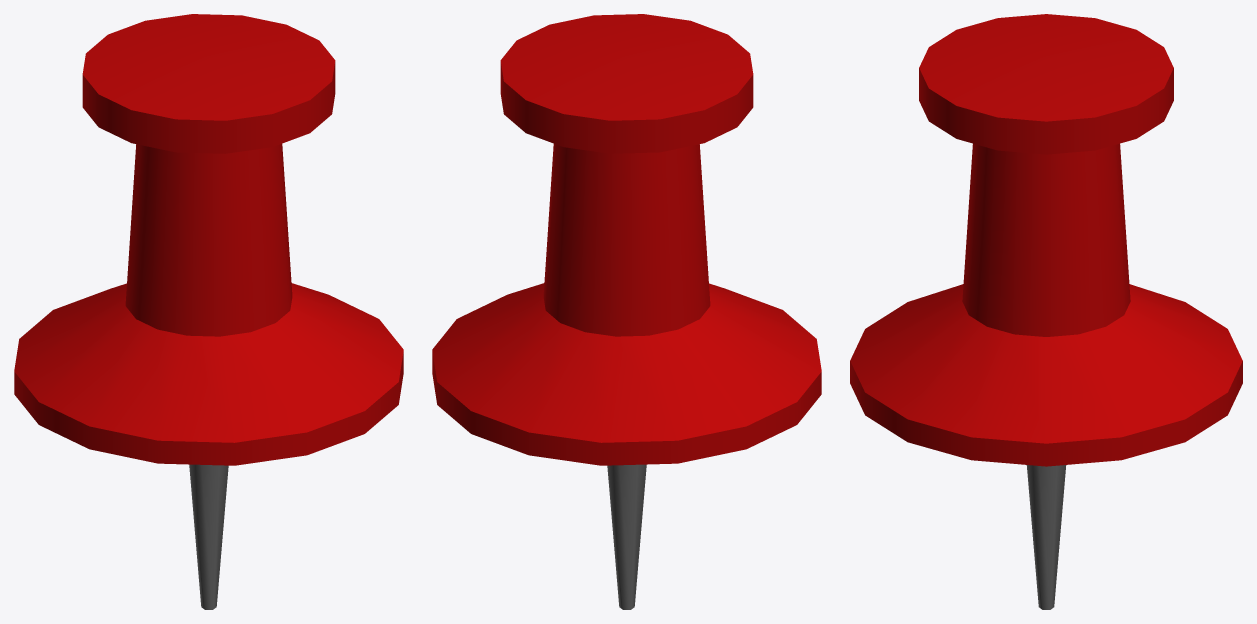
File: red-pin.glb
3 renders of one model, left to right at view 1: azimuth 30°, elevation 25°; view 2: azimuth 150°, elevation 25°; view 3: azimuth 270°, elevation 25°, orthographic.
Visible parts, largest first — view 1: pin; view 2: pin; view 3: pin.
Boxes of the visible parts, left/top/right/bottom form: pin: left=14, top=14, right=403, bottom=609; pin: left=432, top=14, right=821, bottom=609; pin: left=850, top=14, right=1242, bottom=609.
Bounding box in the file's own units: 0.0113 × 0.0175 × 0.0113.
